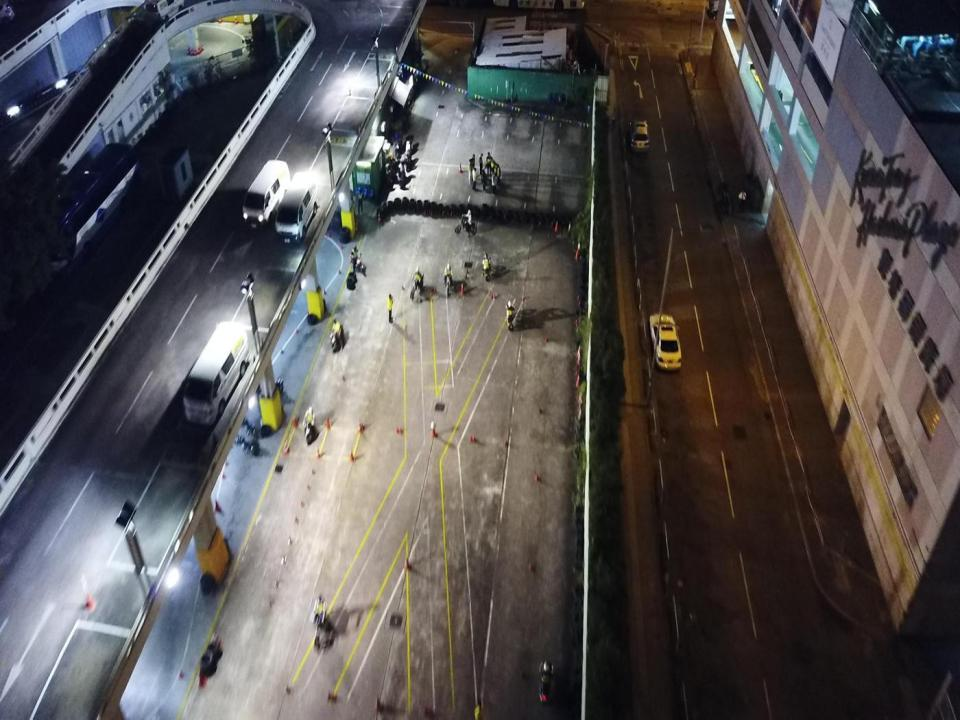bus: (40, 140, 137, 272)
car: (650, 313, 682, 369), (630, 117, 648, 155)
van: (184, 322, 249, 428), (242, 160, 291, 229), (276, 169, 321, 243)
